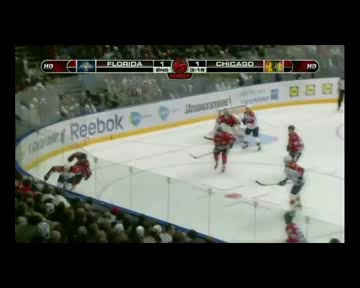normal: (205, 101, 266, 175)
